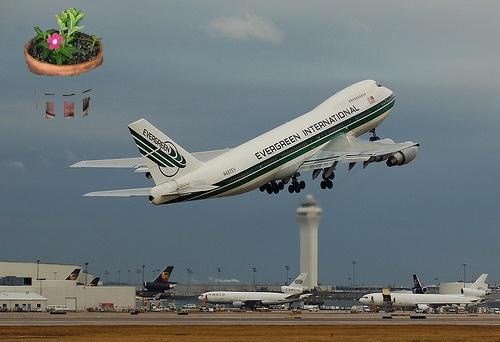tampered: (25, 9, 103, 118)
